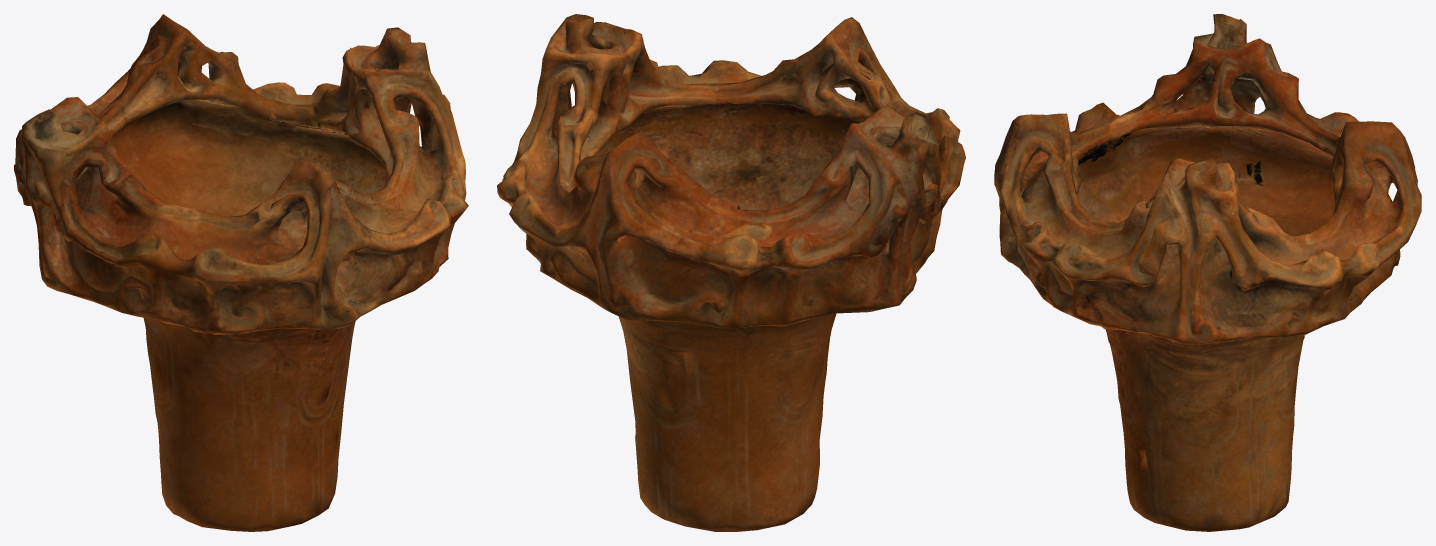
3 renders of one model, left to right at view 1: azimuth 30°, elevation 25°; view 2: azimuth 150°, elevation 25°; view 3: azimuth 270°, elevation 25°, orthographic. The views are drawn at different scales.
Visible parts, largest first — view 1: TK0002_low; view 2: TK0002_low; view 3: TK0002_low.
Boxes of the visible parts, left/top/right/bottom form: TK0002_low: left=14, top=14, right=468, bottom=531; TK0002_low: left=497, top=14, right=965, bottom=531; TK0002_low: left=994, top=14, right=1421, bottom=531.
Bounding box in the file's own units: 282 × 296 × 282.
Materials: 1 (1 with a texture image).
